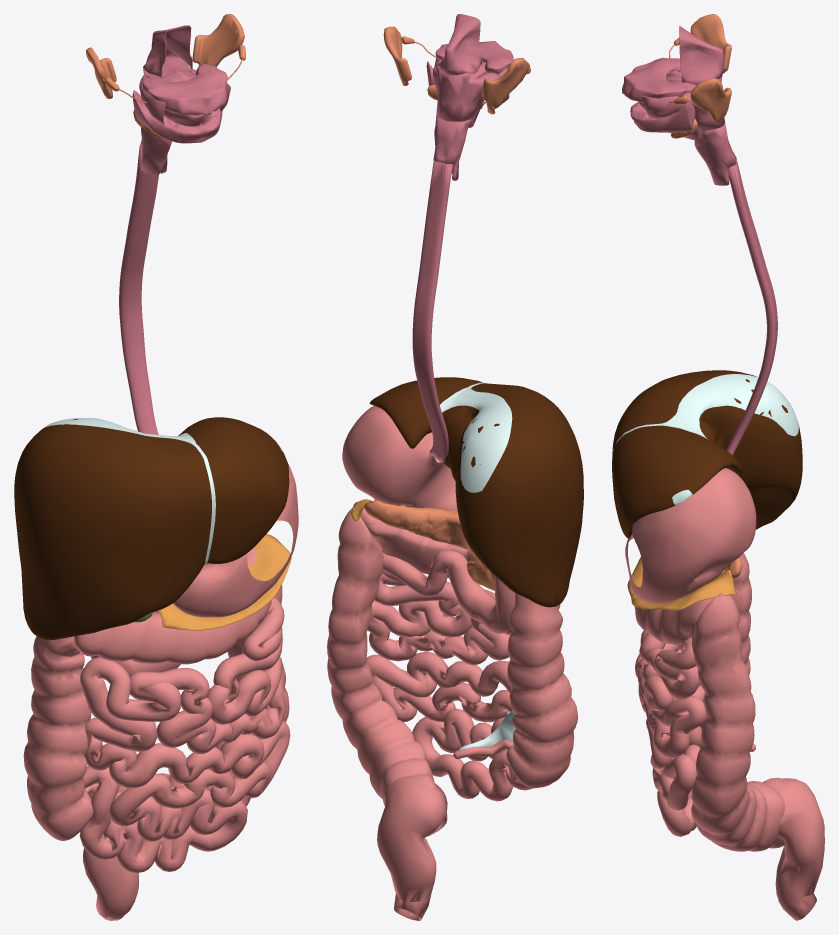
File: digestive.glb
3 views of the same model, side by side, from view 1: azimuth 30°, elevation 25°; view 2: azimuth 150°, elevation 25°; view 3: azimuth 270°, elevation 25° (orthographic). The views are drawn at different scales.
Visible parts, largest first — view 1: Ascending colon, Liver, Oesophagus, Mesocolon, (Accessory parotid gland).l; view 2: Ascending colon, Liver, Oesophagus, (Accessory parotid gland).l; view 3: Ascending colon, Liver, Oesophagus, (Accessory parotid gland).l, Mesocolon.
Boxes of the visible parts, left/top/right/bottom form: Ascending colon: left=23, top=463, right=298, bottom=920; Liver: left=14, top=417, right=289, bottom=783; Oesophagus: left=119, top=25, right=230, bottom=434; Mesocolon: left=158, top=534, right=291, bottom=630; (Accessory parotid gland).l: left=86, top=14, right=245, bottom=612; Ascending colon: left=327, top=405, right=577, bottom=920; Liver: left=369, top=377, right=583, bottom=750; Oesophagus: left=412, top=14, right=513, bottom=462; (Accessory parotid gland).l: left=364, top=26, right=530, bottom=590; Ascending colon: left=625, top=468, right=824, bottom=920; Liver: left=612, top=370, right=802, bottom=538; Oesophagus: left=622, top=26, right=777, bottom=455; (Accessory parotid gland).l: left=667, top=14, right=742, bottom=578; Mesocolon: left=627, top=557, right=736, bottom=610.
Size of the model in its own units: 0.2288 by 0.7873 by 0.1708.
